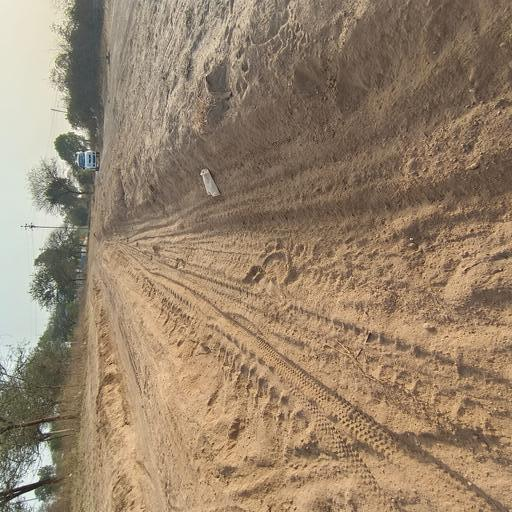vehicle_track: (114, 72, 512, 512)
